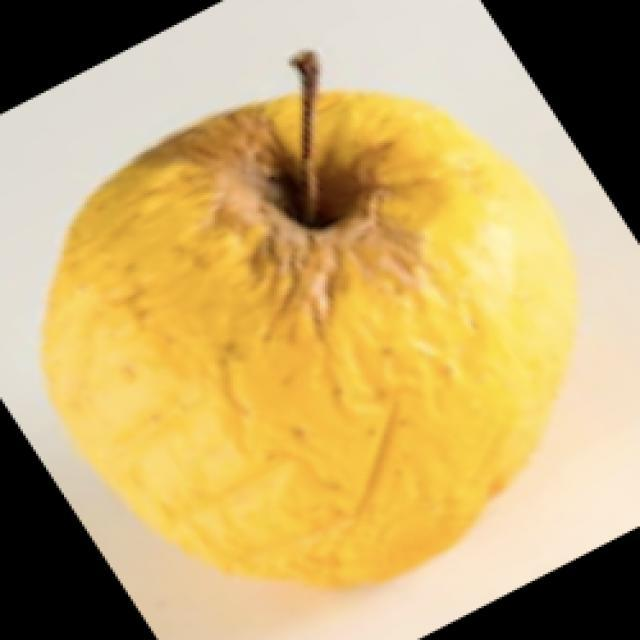Rotten: (70, 85, 593, 580)
